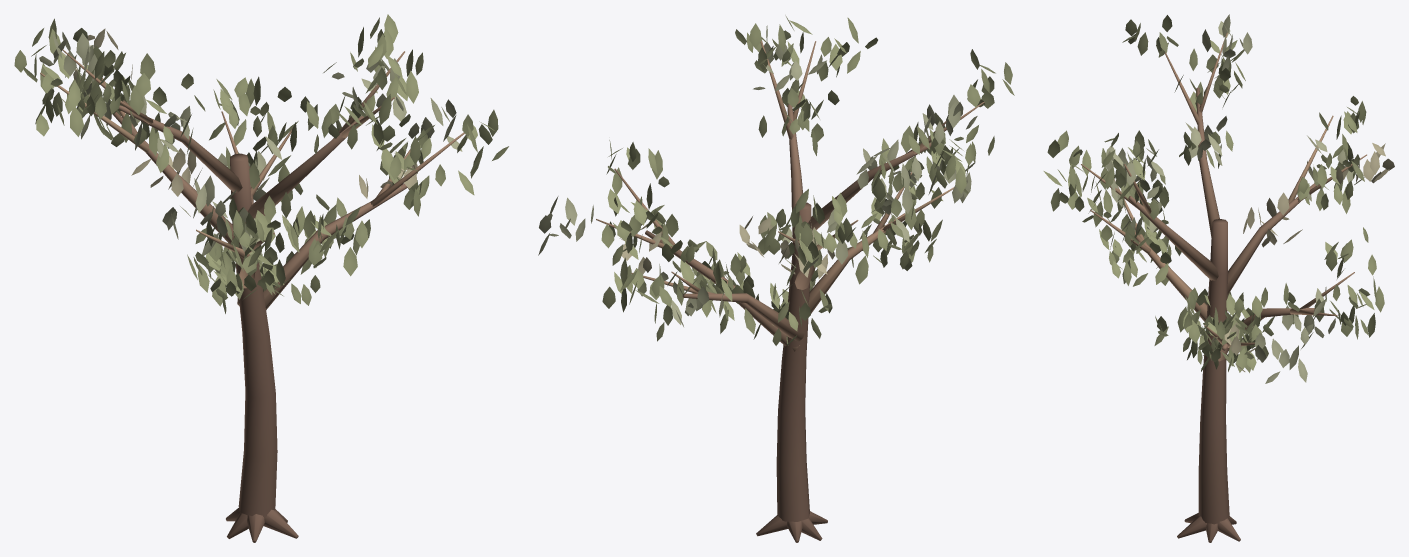
Rendered from tree_3d_01.glb.
3 views of the same model, side by side, from view 1: azimuth 30°, elevation 25°; view 2: azimuth 150°, elevation 25°; view 3: azimuth 270°, elevation 25° (orthographic). The views are drawn at different scales.
Visible parts, largest first — view 1: tree_3d_01_foliage, tree_3d_01_wood; view 2: tree_3d_01_foliage, tree_3d_01_wood; view 3: tree_3d_01_foliage, tree_3d_01_wood.
Boxes of the visible parts, <box> form: tree_3d_01_foliage: <box>14,14,508,313</box>; tree_3d_01_wood: <box>40,49,464,542</box>; tree_3d_01_foliage: <box>538,15,1014,345</box>; tree_3d_01_wood: <box>596,40,984,542</box>; tree_3d_01_foliage: <box>1043,14,1394,383</box>; tree_3d_01_wood: <box>1081,32,1366,542</box>.
Bounding box in the file's own units: 9.39 × 10.93 × 7.74.
